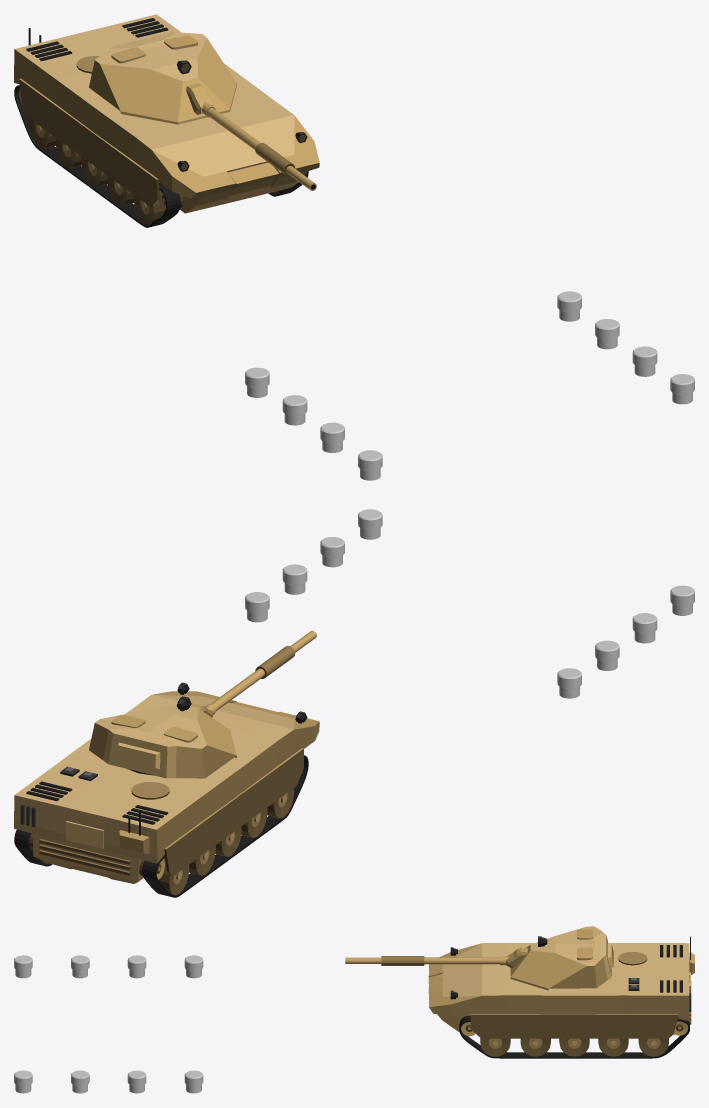
File: changjing3_6.fbx
3 renders of one model, top to bottom at view 1: azimuth 30°, elevation 25°; view 2: azimuth 150°, elevation 25°; view 3: azimuth 270°, elevation 25°, orthographic. The views are drawn at different scales.
Visible parts, largest first — view 1: TanKe6; view 2: TanKe6, zhuangzi126, zhuangzi131, zhuangzi125, zhuangzi128, zhuangzi127, zhuangzi132, zhuangzi129, zhuangzi130; view 3: TanKe6, zhuangzi125, zhuangzi132, zhuangzi130, zhuangzi128, zhuangzi126, zhuangzi129, zhuangzi127, zhuangzi131.
Part boxes in pixels (x1=…): TanKe6: x1=14, y1=14, x2=319, y2=227; TanKe6: x1=14, y1=630, x2=319, y2=897; zhuangzi126: x1=282, y1=564, x2=307, y2=594; zhuangzi131: x1=632, y1=613, x2=657, y2=643; zhuangzi125: x1=245, y1=592, x2=269, y2=622; zhuangzi128: x1=358, y1=509, x2=382, y2=539; zhuangzi127: x1=320, y1=537, x2=344, y2=567; zhuangzi132: x1=557, y1=668, x2=581, y2=698; zhuangzi129: x1=670, y1=585, x2=694, y2=615; zhuangzi130: x1=595, y1=640, x2=619, y2=670; TanKe6: x1=345, y1=926, x2=694, y2=1058; zhuangzi125: x1=184, y1=1070, x2=203, y2=1093; zhuangzi132: x1=184, y1=955, x2=203, y2=978; zhuangzi130: x1=127, y1=955, x2=146, y2=978; zhuangzi128: x1=14, y1=1070, x2=32, y2=1093; zhuangzi126: x1=127, y1=1070, x2=146, y2=1093; zhuangzi129: x1=14, y1=955, x2=32, y2=978; zhuangzi127: x1=71, y1=1070, x2=89, y2=1093; zhuangzi131: x1=71, y1=955, x2=89, y2=978.
Size of what is drawn, in the model's own units: 1745 by 630 by 4082.
